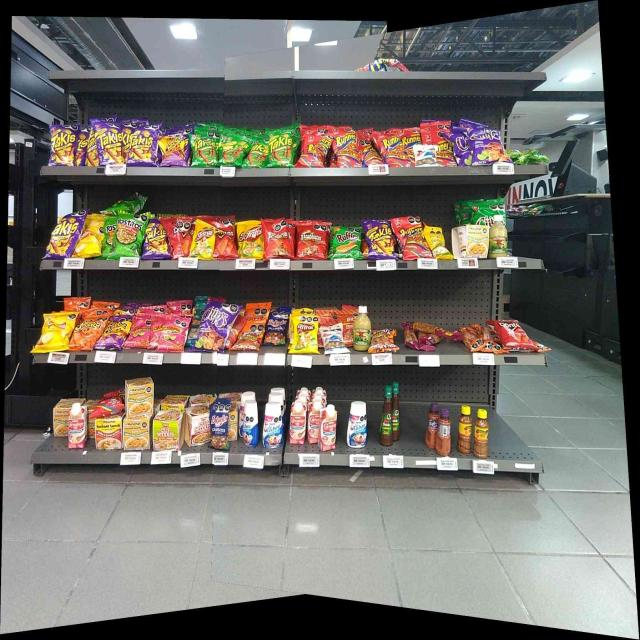bitzEnchilado95: (465, 325, 497, 351)
bitzHabanero: (418, 323, 455, 334), (403, 321, 416, 349), (418, 336, 441, 350)
bokadosCacahuates: (210, 398, 228, 449), (266, 314, 286, 344)
botaneraChilito: (474, 409, 488, 458), (459, 405, 472, 453)
cheetosFlaminHot: (103, 316, 127, 348), (160, 134, 183, 166)
cheetosOriginal: (73, 318, 97, 347)
chipsFuego: (201, 303, 228, 350), (470, 128, 505, 162), (455, 128, 469, 164)
chipsPapatinas: (490, 214, 508, 256), (511, 150, 545, 162)
churrumais: (160, 316, 186, 350), (130, 316, 150, 346)
delPrimoSalsa: (352, 306, 370, 350)
doritosNacho: (500, 321, 530, 349), (170, 218, 191, 257), (216, 218, 235, 258)
fritosLimon: (292, 313, 318, 353), (238, 224, 262, 258), (193, 220, 214, 258)
leoCacahuates: (438, 126, 453, 166), (322, 326, 344, 352), (415, 149, 437, 166)
leoMix: (238, 324, 262, 350), (372, 331, 395, 352)
maruchanPollo: (453, 225, 487, 258), (125, 380, 152, 416), (123, 418, 149, 449), (53, 398, 67, 436)
maruchanRes: (95, 418, 121, 448)
nestleCarnation: (68, 403, 86, 447), (319, 406, 336, 449), (290, 402, 306, 444), (308, 402, 318, 443)
nestleLechera: (347, 401, 367, 448), (263, 402, 282, 447), (243, 400, 259, 448)
nissinCamaron: (153, 410, 182, 450)
nissinRes: (185, 407, 208, 445)
rancheritos: (296, 224, 326, 258), (266, 220, 291, 256)
rufflesQueso: (332, 226, 362, 258)
runners: (400, 217, 426, 257), (302, 130, 328, 165), (336, 130, 358, 167), (95, 388, 123, 414), (384, 134, 405, 166), (361, 138, 378, 166), (406, 131, 421, 148)
sabritasOriginal: (42, 312, 68, 348), (79, 217, 99, 256)
salsaBufalo: (380, 384, 392, 446), (394, 382, 400, 441)
semillasCalabaza: (430, 226, 450, 259)
semillasGirasol: (189, 307, 199, 343)
tajinDulce: (437, 410, 451, 454), (426, 402, 436, 448)
takisFuego: (51, 212, 77, 258), (367, 220, 395, 258), (98, 119, 120, 163), (51, 126, 75, 166), (144, 220, 167, 260), (130, 126, 153, 164)
takisOriginal: (269, 129, 291, 167), (192, 133, 216, 165), (222, 133, 245, 165), (248, 140, 266, 167)
tostitos: (116, 212, 141, 256), (102, 213, 115, 259)
